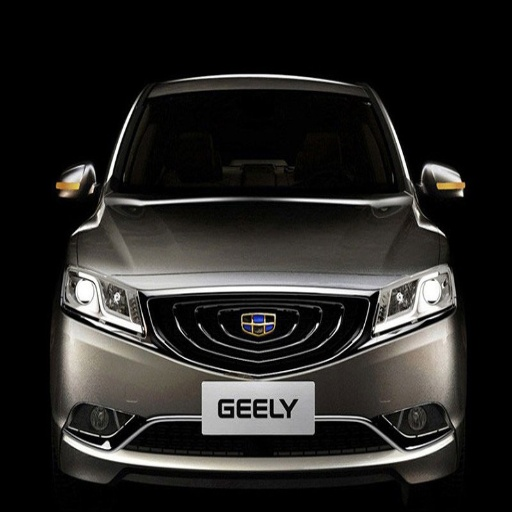front_bumper: (59, 276, 457, 484)
front_right_light: (61, 259, 147, 342)
hood: (81, 193, 438, 289)
left_mirror: (420, 164, 466, 206)
